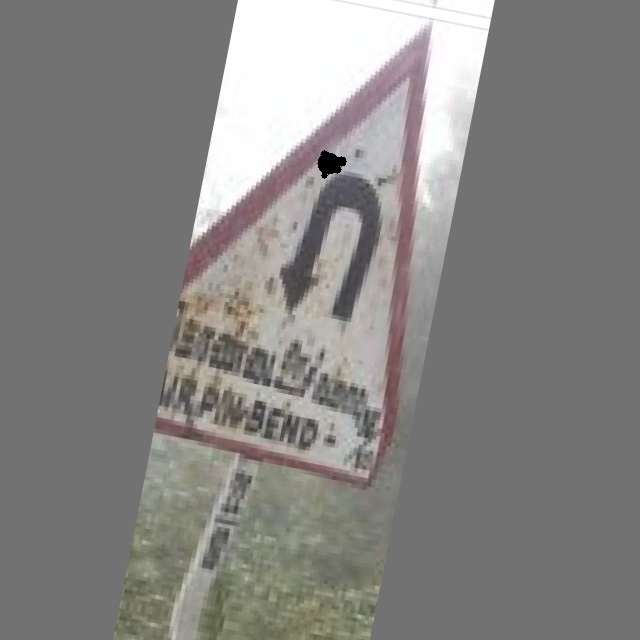Left_Hair_Pin_Bend: (240, 123, 443, 355)
